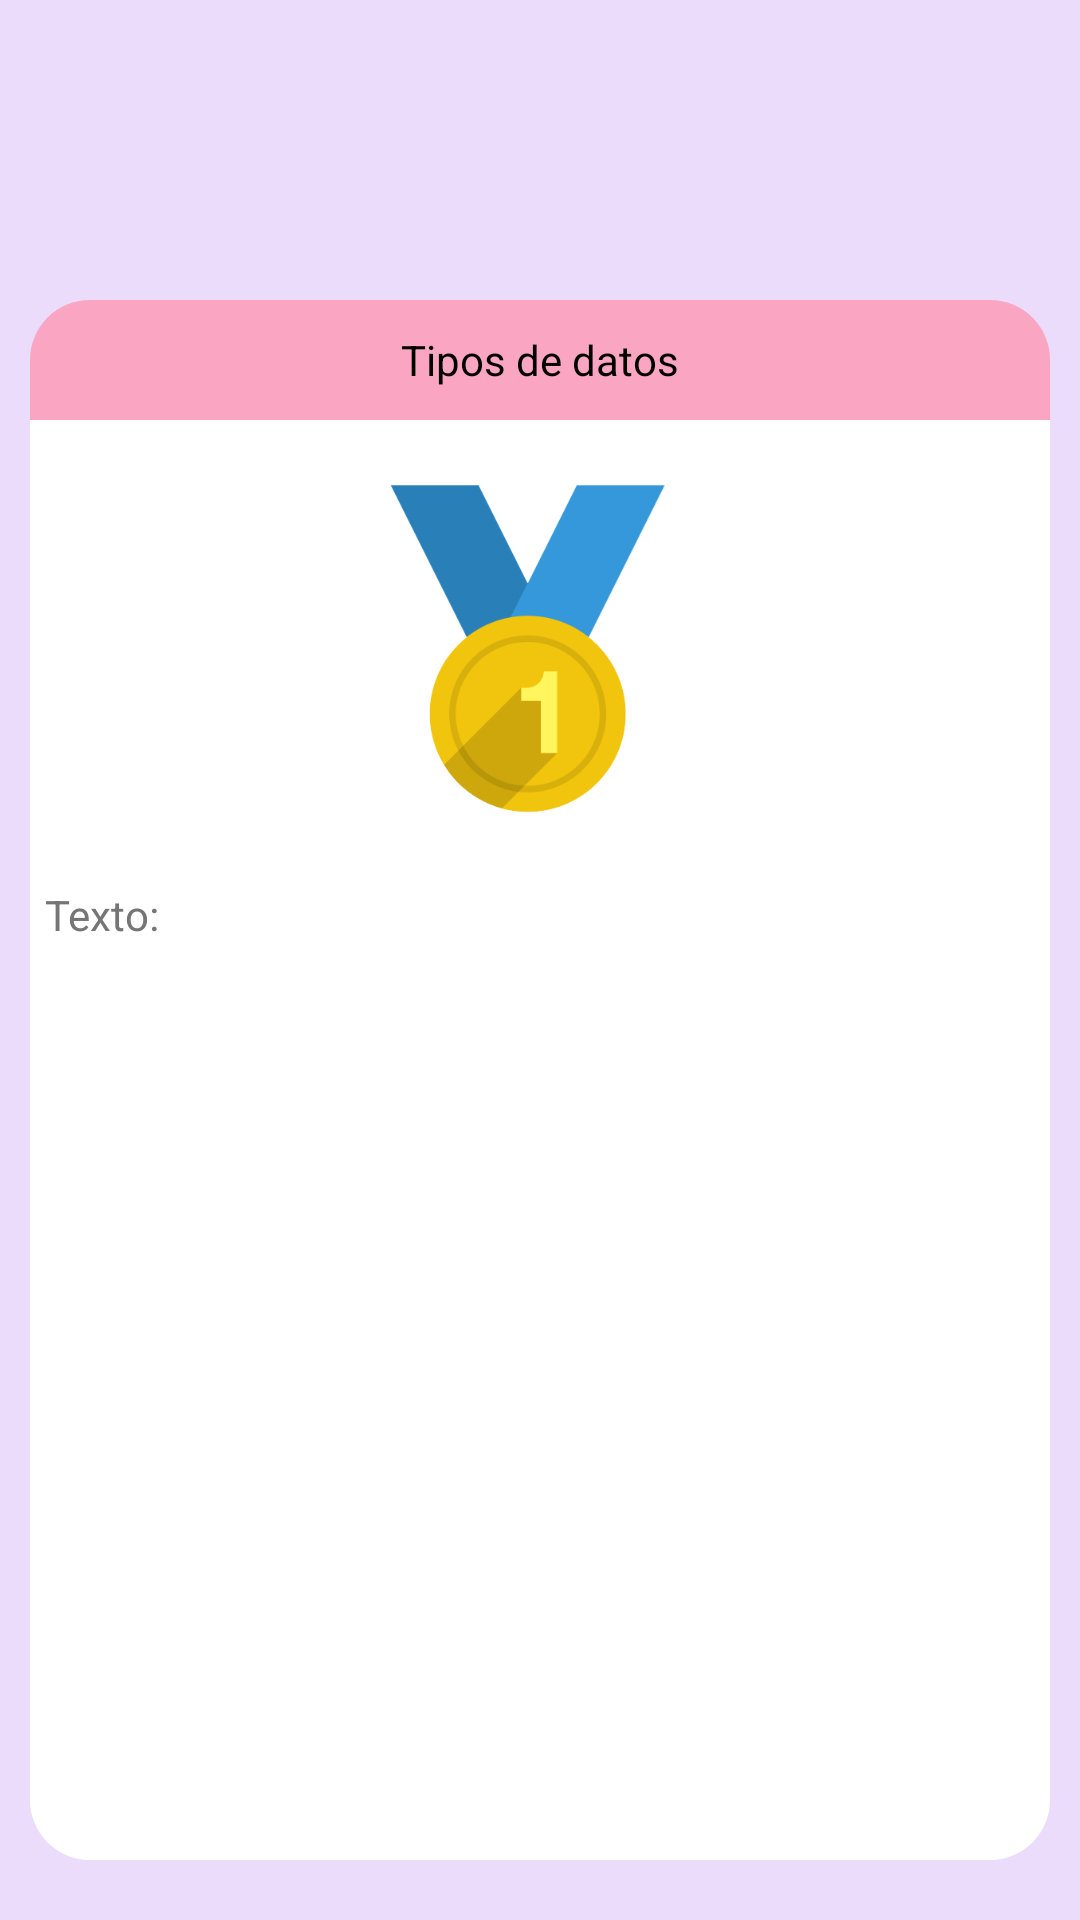

Icons on this 1080 x 1920 Android screen, each with the point to tap as point (x, y):
medalla: point (528, 648)
